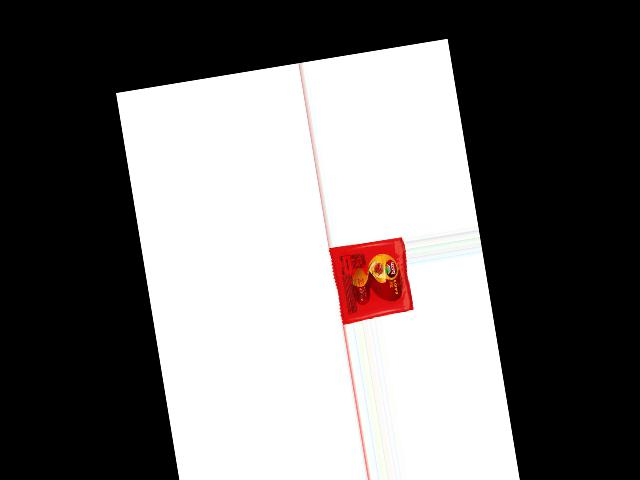cheese: (328, 235, 414, 322)
